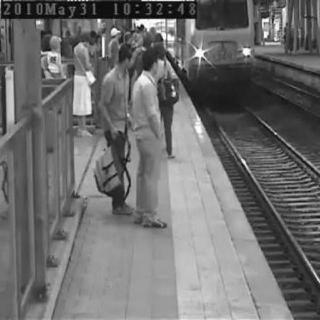other: (184, 43, 221, 67), (237, 46, 254, 62)
